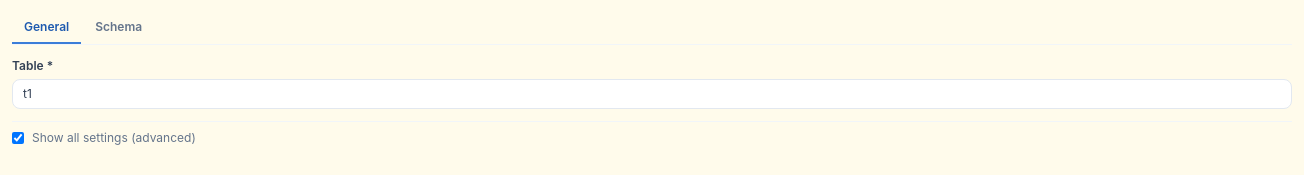
Test: DynamicConfig — schema_policy dropdown › shows the description of the currently-selected option inline
The image size is (1304, 175).
Click the button "Schema". click: (119,28)
box: 83,12 -> 154,44
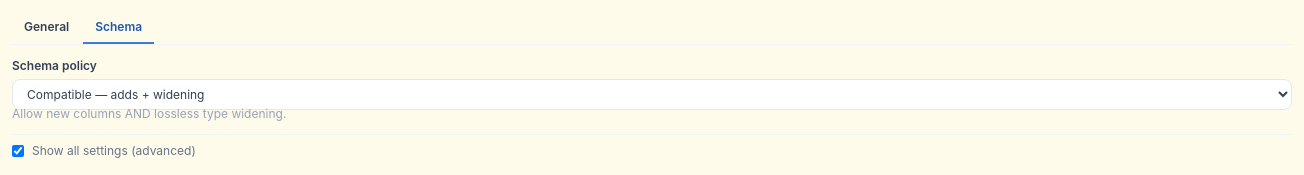
Expected: the text "Allow new columns AND lossless type widening." is shown, 12,106 -> 286,121
